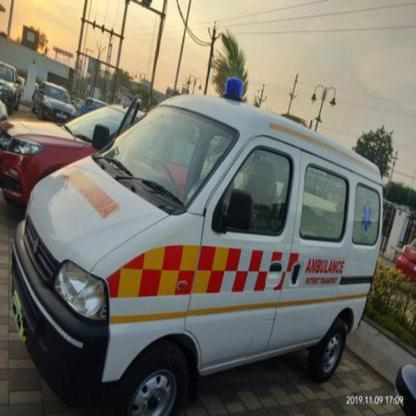Ambulance - v1 Ambulance last generate: (0, 84, 386, 410)
